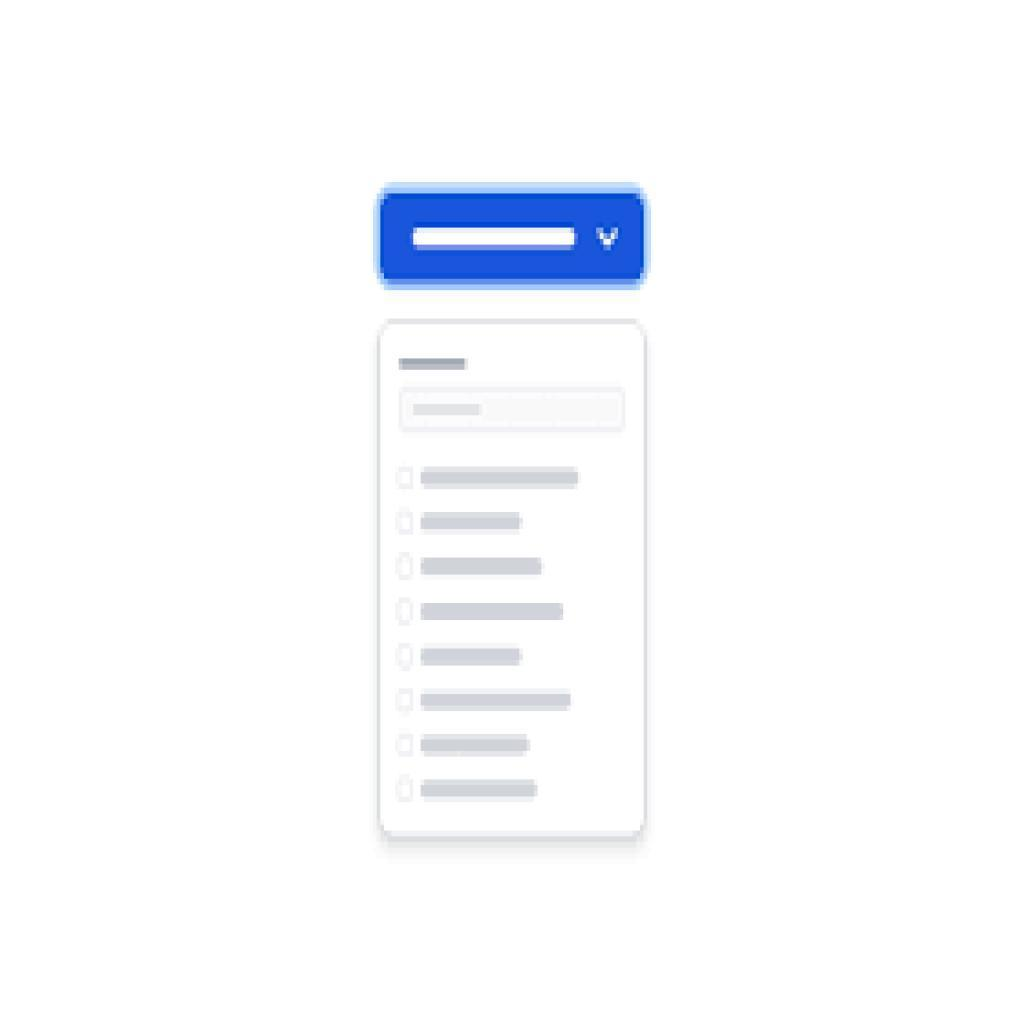dropdown: (375, 183, 650, 294)
